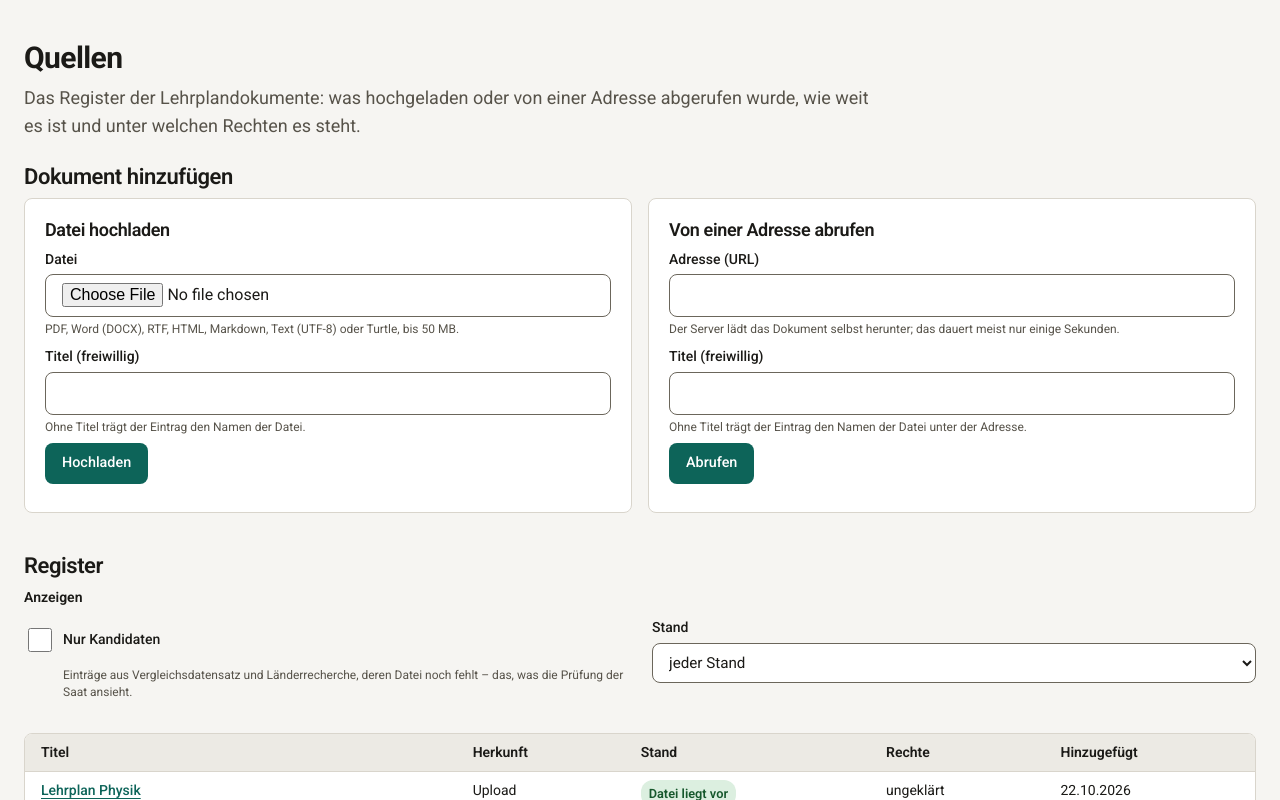
Test case: the register page's filter › says when no entry matches the filter, apart from an empty register, and says it aloud
The width and height of the screenshot is (1280, 800).
Click the checkbox labelled "Nur Kandidaten": (40, 640) x1=28 y1=620 x2=52 y2=660
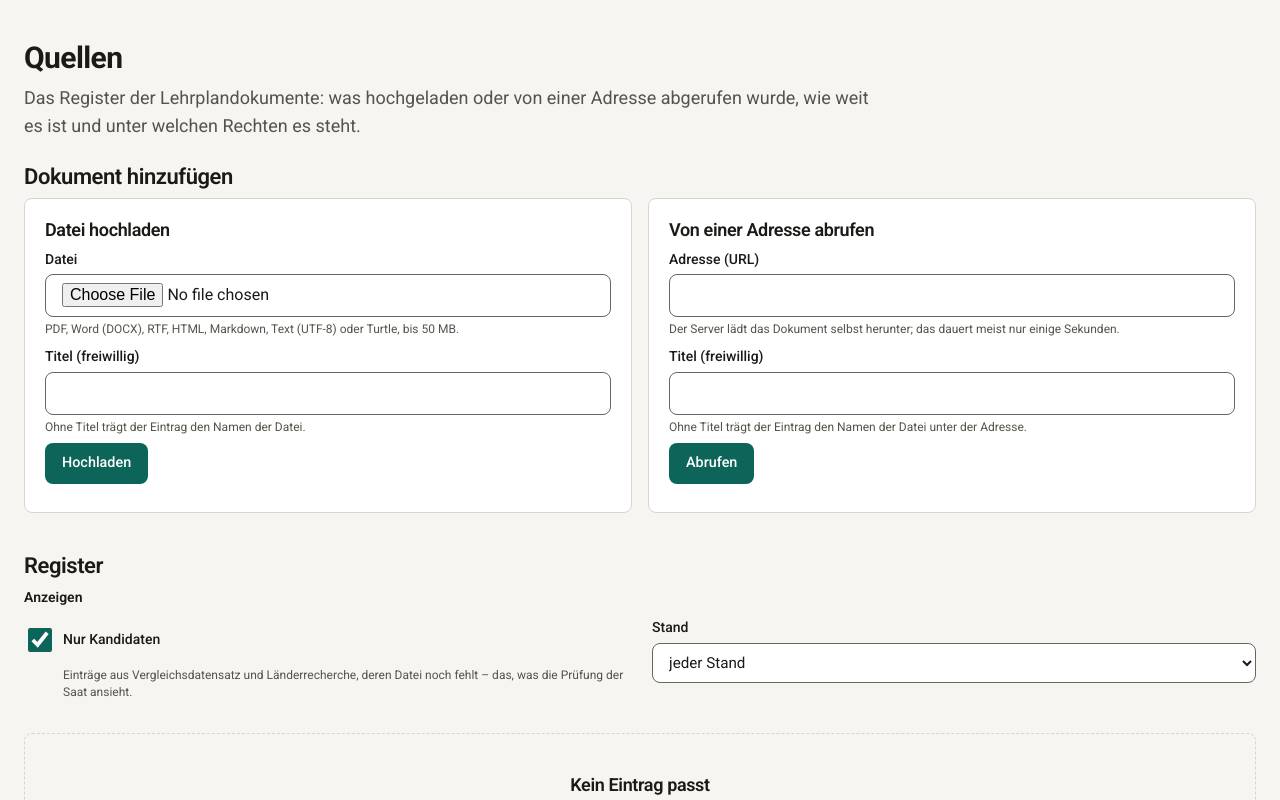
Result: the checkbox labelled "Nur Kandidaten" is checked at x1=28 y1=620 x2=52 y2=660
Result: the text "Kein Eintrag passt" is shown at x1=570 y1=774 x2=710 y2=795
